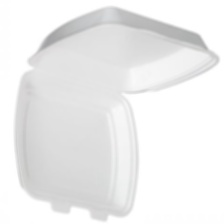foam_box: (9, 2, 222, 224)
